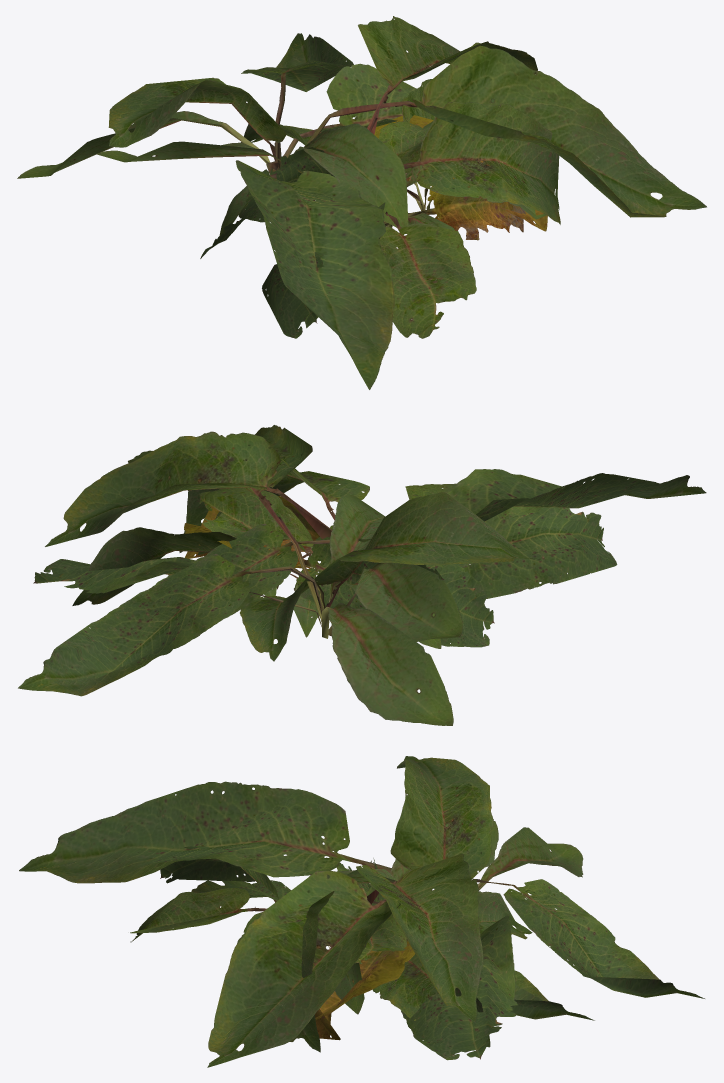
The model's file is crop-low.glb.
3 renders of one model, top to bottom at view 1: azimuth 30°, elevation 25°; view 2: azimuth 150°, elevation 25°; view 3: azimuth 270°, elevation 25°, orthographic. The views are drawn at different scales.
Visible parts, largest first — view 1: plant_0, plant_1, plant_2, plant_4, plant_3; view 2: plant_0, plant_1, plant_2, plant_3, plant_4; view 3: plant_0, plant_1, plant_2, plant_3.
Part boxes in pixels (bbox=[...]): plant_0: bbox=[17, 33, 706, 389]; plant_1: bbox=[96, 16, 537, 338]; plant_2: bbox=[219, 101, 560, 328]; plant_4: bbox=[238, 147, 546, 222]; plant_3: bbox=[200, 79, 480, 262]; plant_0: bbox=[18, 425, 706, 725]; plant_1: bbox=[45, 431, 617, 641]; plant_2: bbox=[179, 458, 567, 661]; plant_3: bbox=[72, 511, 494, 647]; plant_4: bbox=[264, 525, 444, 608]; plant_0: bbox=[19, 756, 704, 1067]; plant_1: bbox=[130, 819, 594, 1040]; plant_2: bbox=[191, 880, 532, 1052]; plant_3: bbox=[335, 864, 490, 1047].
Bounding box in the file's own units: 0.2193 × 0.0725 × 0.2909.
Materials: 1 (1 with a texture image).
